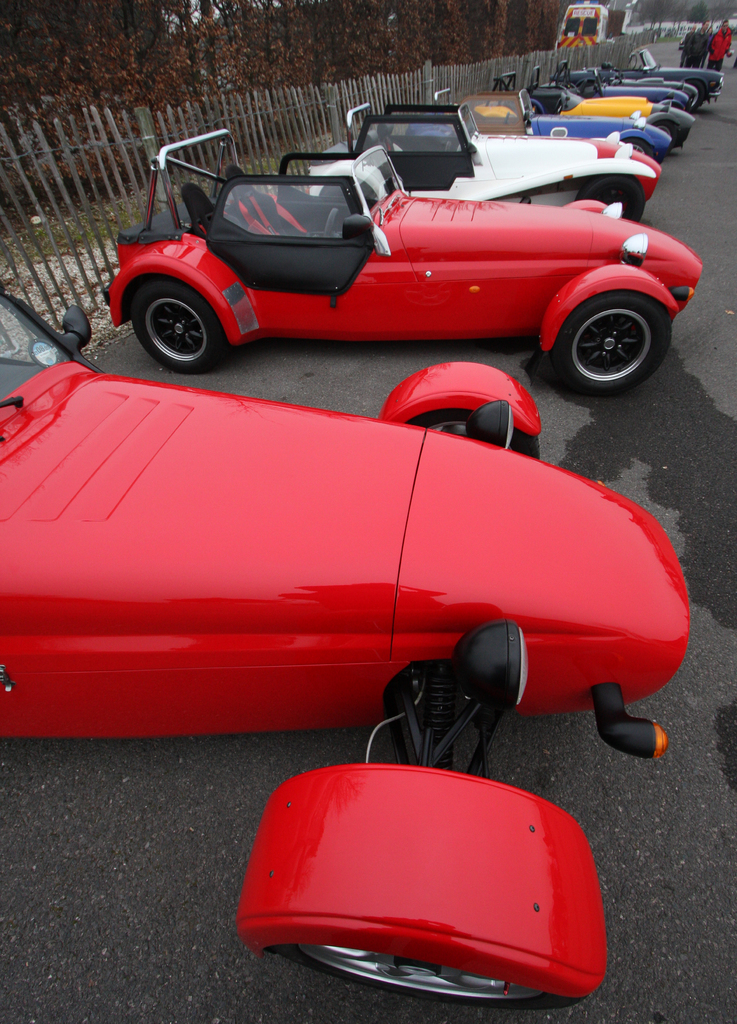Car: (0, 277, 681, 1001), (94, 125, 703, 384), (316, 56, 724, 193)
